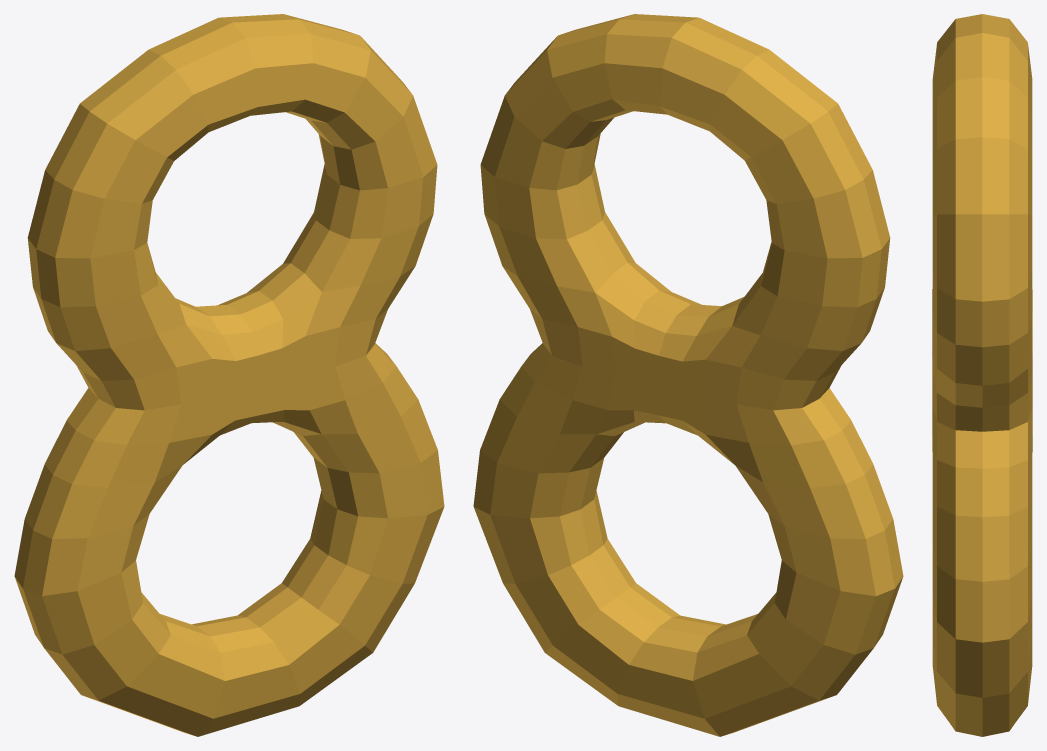
The picture shows the model from 3 angles, left to right: view 1: azimuth 30°, elevation 25°; view 2: azimuth 150°, elevation 25°; view 3: azimuth 270°, elevation 25°; orthographic projection. The views are drawn at different scales.
Parts seen in each view (by area): view 1: 8; view 2: 8; view 3: 8.
Part boxes in pixels (<box>): 8: <box>14,14,444,736</box>; 8: <box>473,14,903,736</box>; 8: <box>932,14,1032,736</box>.
Size of the model in its own units: 42.82 by 69.07 by 9.18.
